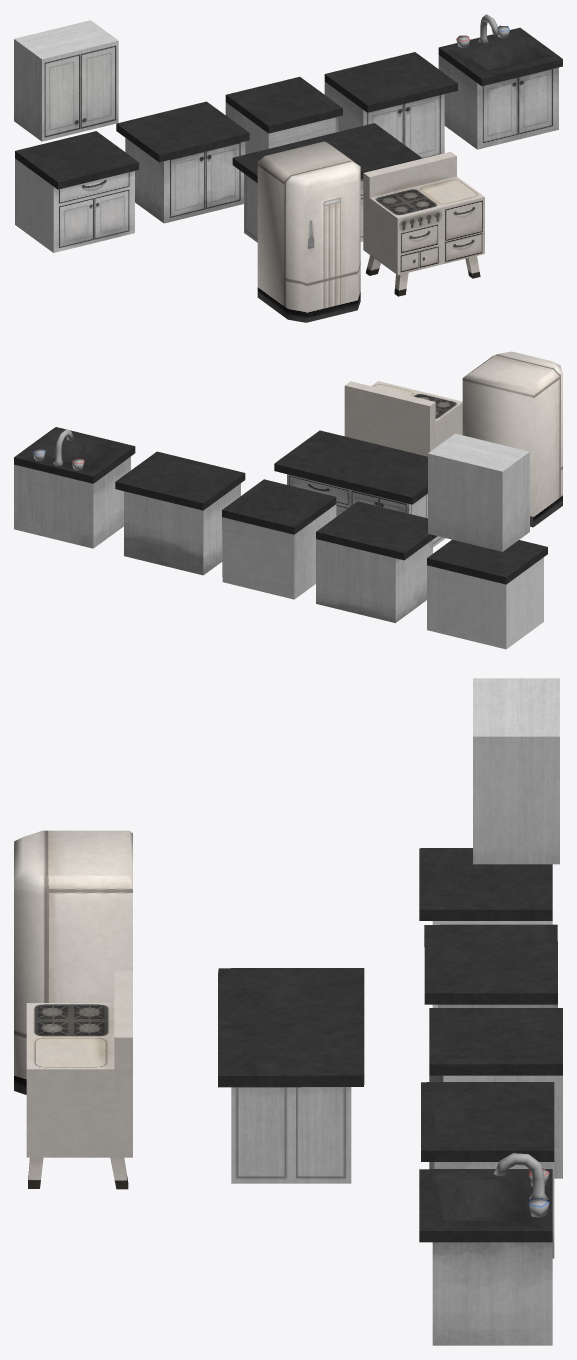
The model's file is Kitchen.fbx.
3 views of the same model, one above another, from view 1: azimuth 30°, elevation 25°; view 2: azimuth 150°, elevation 25°; view 3: azimuth 270°, elevation 25° (orthographic). The views are drawn at different scales.
Parts seen in each view (by area): view 1: Fridge, Stove, Kitchen Counter Middle, Kitchen Counter Sink, Kitchen Counter Left, Kitchen Cabinet, Kitchen Counter Right, Kitchen Counter Corner, Kitchen Island; view 2: Kitchen Counter Left, Kitchen Counter Sink, Kitchen Counter Right, Kitchen Counter Middle, Fridge, Kitchen Cabinet, Kitchen Counter Corner, Kitchen Island, Stove; view 3: Kitchen Island, Kitchen Counter Sink, Fridge, Stove, Kitchen Cabinet, Kitchen Counter Right, Kitchen Counter Left, Kitchen Counter Corner, Kitchen Counter Middle.
Part boxes in pixels (x1,y1,x2,y2): Fridge: (257,141,360,322); Stove: (363,151,484,296); Kitchen Counter Middle: (15,131,139,252); Kitchen Counter Sink: (438,14,562,149); Kitchen Counter Left: (116,101,249,223); Kitchen Cabinet: (14,20,118,141); Kitchen Counter Right: (324,52,457,158); Kitchen Counter Corner: (225,76,342,154); Kitchen Island: (232,123,421,242); Kitchen Counter Left: (316,501,437,622); Kitchen Counter Sink: (14,427,135,548); Kitchen Counter Right: (115,451,245,575); Kitchen Counter Middle: (427,539,547,649); Fridge: (462,351,562,527); Kitchen Cabinet: (428,433,529,551); Kitchen Counter Corner: (222,479,336,599); Kitchen Island: (274,430,445,547); Stove: (344,381,462,456); Kitchen Island: (218,968,364,1183); Kitchen Counter Sink: (419,1153,552,1345); Fridge: (14,830,132,1094); Stove: (26,971,132,1189); Kitchen Cabinet: (473,678,559,864); Kitchen Counter Right: (421,1082,554,1258); Kitchen Counter Left: (424,924,557,1007); Kitchen Counter Corner: (429,1008,562,1178); Kitchen Counter Middle: (419,848,552,1007).
Size of the model in its own units: 1114 by 675 by 389.
9 materials, 9 textured.
